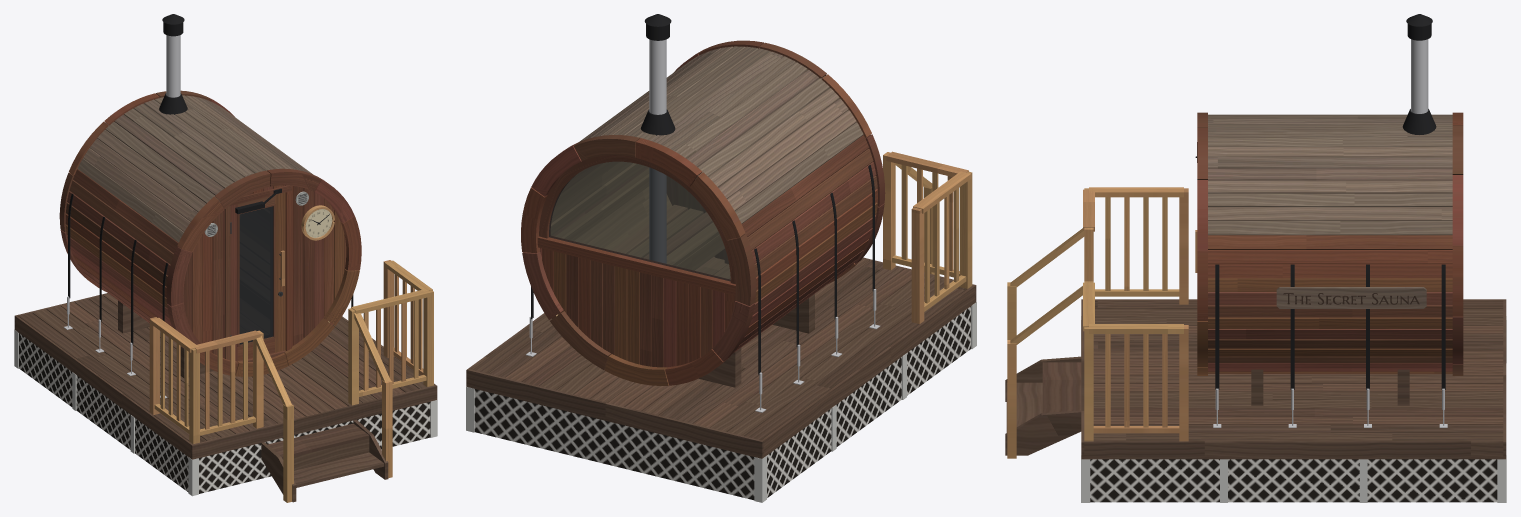
The model's file is sauna_small.glb.
3 renders of one model, left to right at view 1: azimuth 30°, elevation 25°; view 2: azimuth 150°, elevation 25°; view 3: azimuth 270°, elevation 25°, orthographic. The views are drawn at different scales.
Parts seen in each view (by area): view 1: Deck, Body, Roof, Door, Chimney, Straps, Clock; view 2: Deck, Body, Roof, Window_Glass, Bench, Window_Frame, Chimney, Straps; view 3: Deck, Body, Roof, Sign, Straps, Chimney.
Part boxes in pixels (<box>): Deck: <box>14,260,437,502</box>; Body: <box>59,90,361,378</box>; Roof: <box>77,95,312,242</box>; Door: <box>230,188,285,361</box>; Chimney: <box>159,14,187,114</box>; Straps: <box>63,193,353,398</box>; Clock: <box>301,205,334,240</box>; Deck: <box>466,151,976,502</box>; Body: <box>521,40,885,387</box>; Roof: <box>579,46,863,223</box>; Window_Glass: <box>549,161,730,281</box>; Bench: <box>551,163,728,270</box>; Window_Frame: <box>537,155,735,295</box>; Chimney: <box>641,14,675,263</box>; Straps: <box>526,164,880,412</box>; Deck: <box>1005,187,1506,502</box>; Body: <box>1197,112,1463,405</box>; Roof: <box>1208,114,1452,235</box>; Sign: <box>1276,287,1426,308</box>; Straps: <box>1213,264,1447,427</box>; Chimney: <box>1402,14,1436,134</box>.
Size of the model in its own units: 2.55 by 3.45 by 3.77.
Materials: 19 (11 with a texture image).
